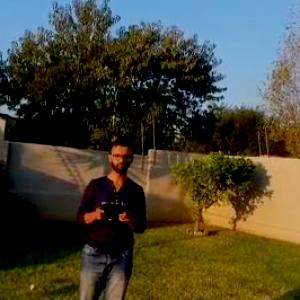follow: (74, 127, 157, 299)
